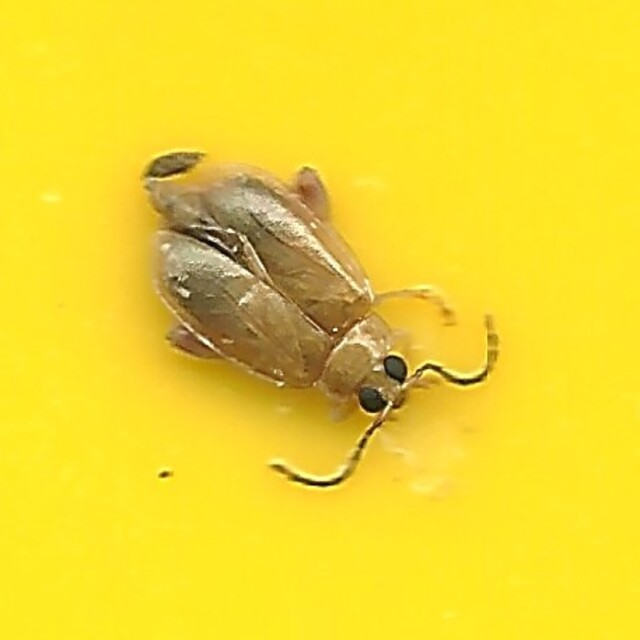Coleoptera: (140, 151, 500, 489)
